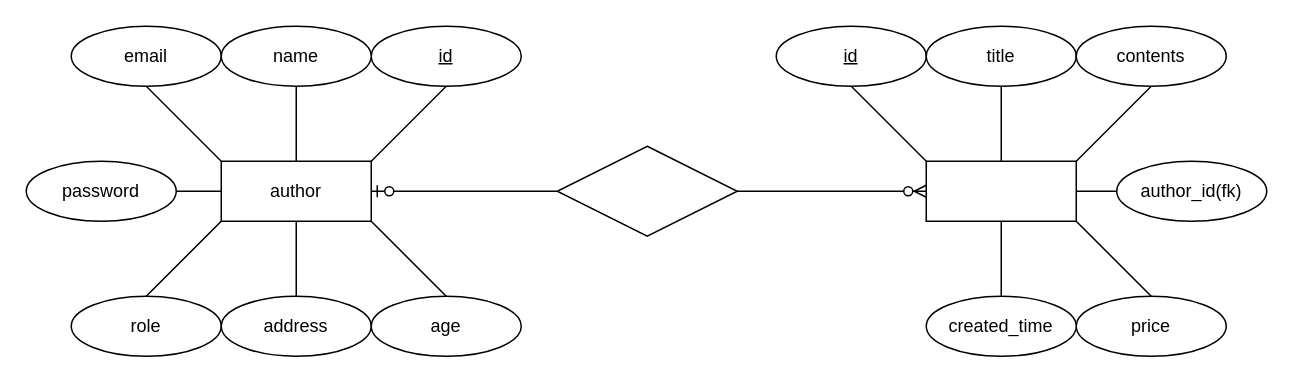
Image size: 1293x383. Some labels were removed from this diagram. The shapes that lost their labels are listed below. From the top down, each one's centre as x and y in pixels, then its label:
At (646,190): "Posting".
At (1000,190): "post".
